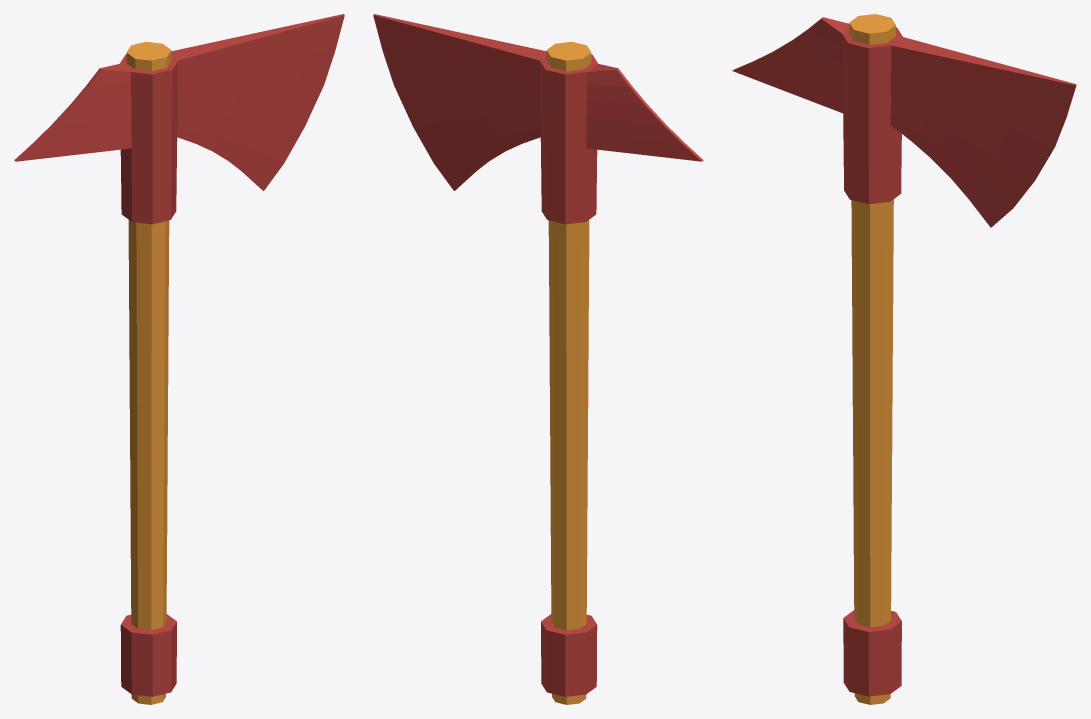
File: one_handed_axe_2.fbx
3 renders of one model, left to right at view 1: azimuth 30°, elevation 25°; view 2: azimuth 150°, elevation 25°; view 3: azimuth 330°, elevation 25°, orthographic. The views are drawn at different scales.
Visible parts, largest first — view 1: one_handed_axe_2; view 2: one_handed_axe_2; view 3: one_handed_axe_2.
Boxes of the visible parts, <box> form: one_handed_axe_2: <box>14,14,344,704</box>; one_handed_axe_2: <box>373,14,703,704</box>; one_handed_axe_2: <box>732,14,1076,704</box>.
Size of the model in its own units: 0.5214 by 0.9786 by 0.0748.
1 material, 1 textured.
